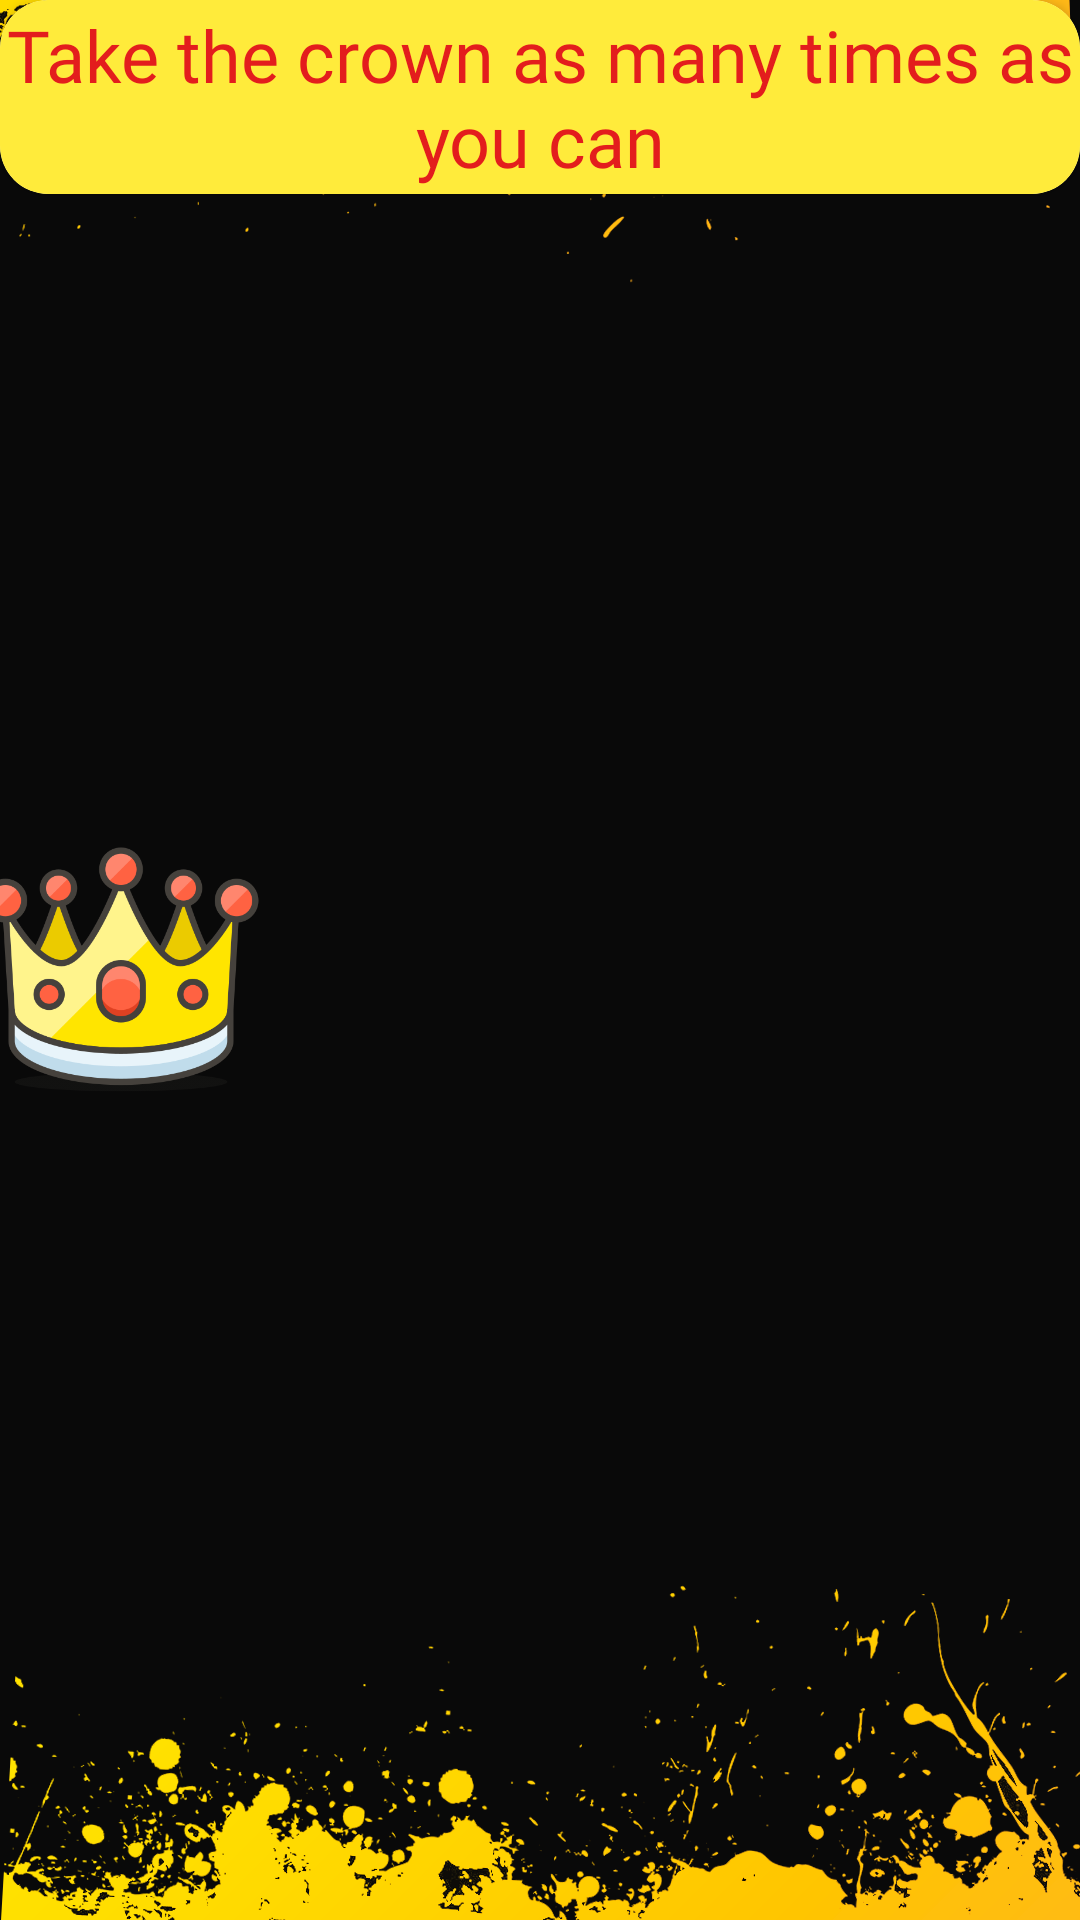

Locate icon controls on the screen. Image size 1080px x 1920px, boxes as (x1, y1, x2, y2).
crown: (0, 847, 259, 1085)
